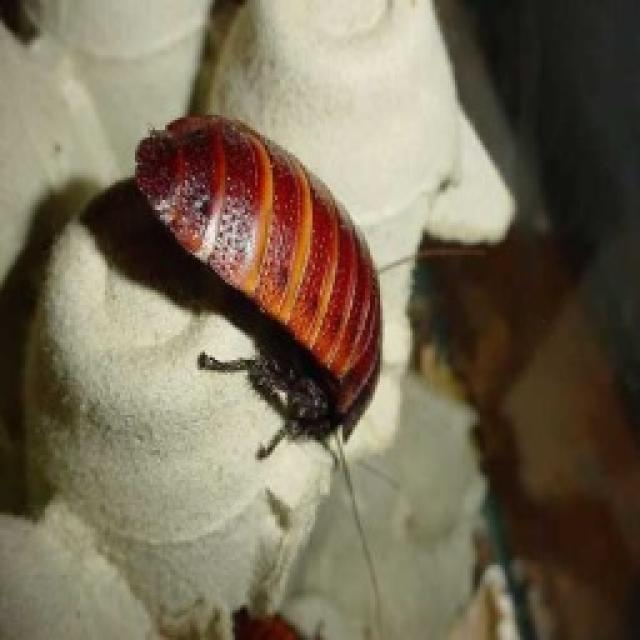cockroach: (139, 82, 369, 481)
